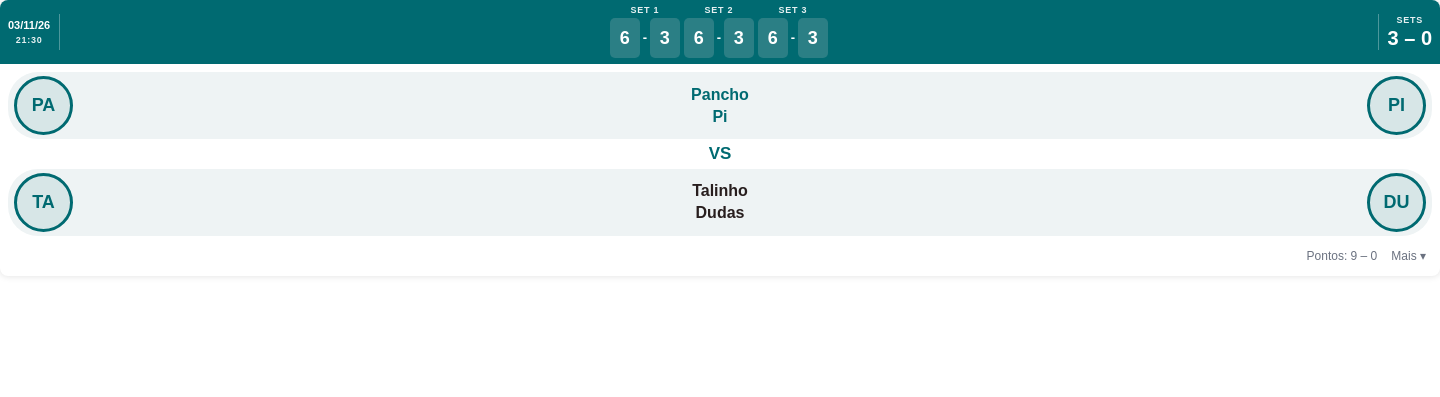
Test: ResultCard › Mais ▾ (admins, saved result) holds only Apagar resultado; no W.O. / tempo esgotado / falta buttons
Expected: the text "Pontos: 9 – 0" is shown, [1306,246,1377,264]
What coordinates should you click on to do the following:
click the button "Mais ▾"
I would click on:
 (1409, 256)
Its box is [1387,240,1430,272].
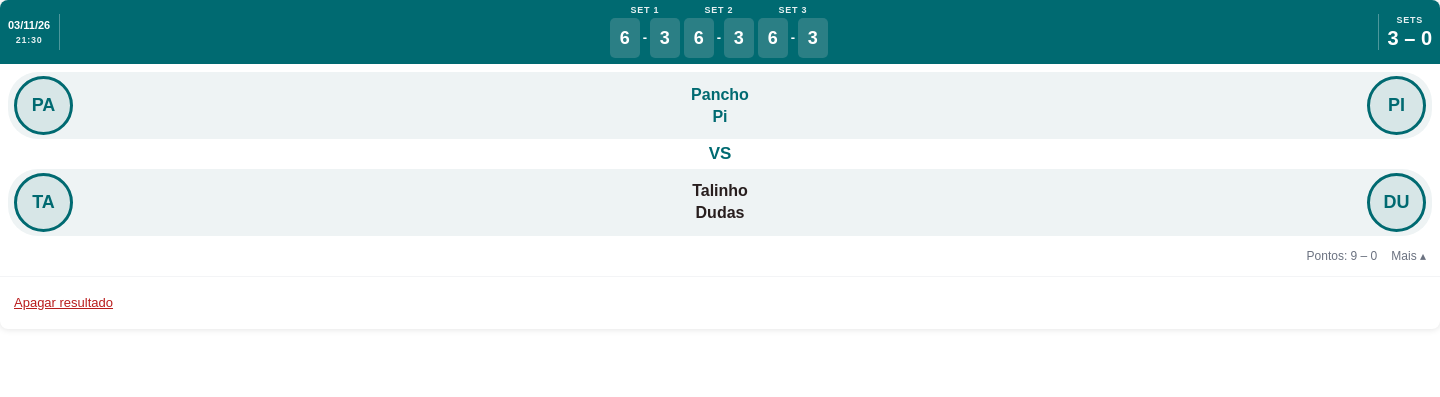
What coordinates should you click on to do the following:
click the button "Apagar resultado"
I would click on:
 (64, 302)
Its box is [10,284,117,320].
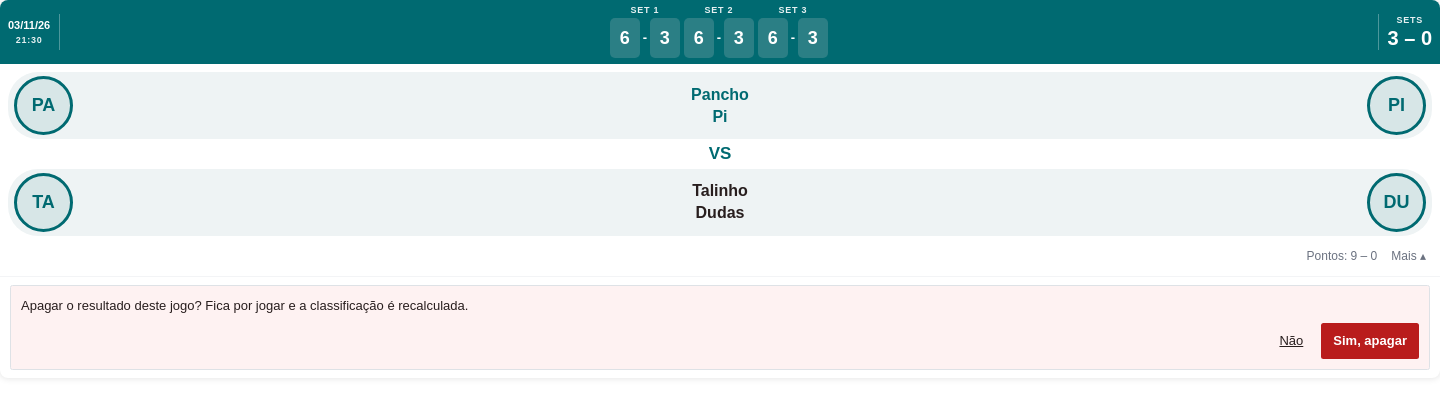
Result: the button "Sim, apagar" is shown at [1321,323,1419,359]
